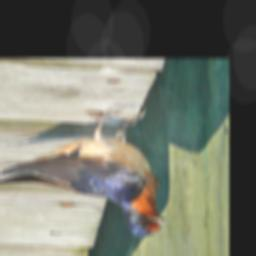Swallow: (0, 106, 169, 237)
